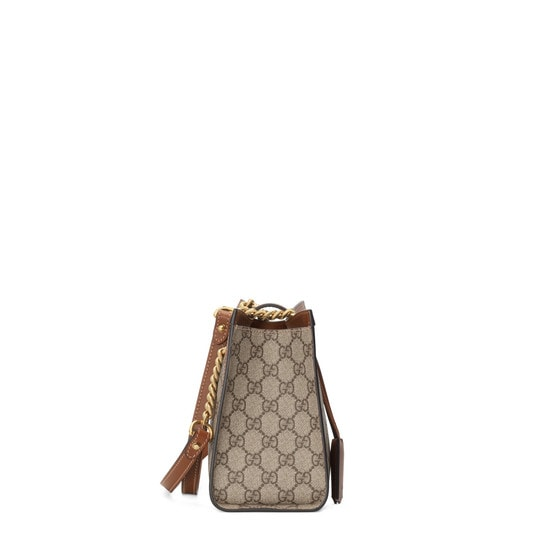Gucci: (195, 274, 349, 527), (224, 340, 306, 487)
